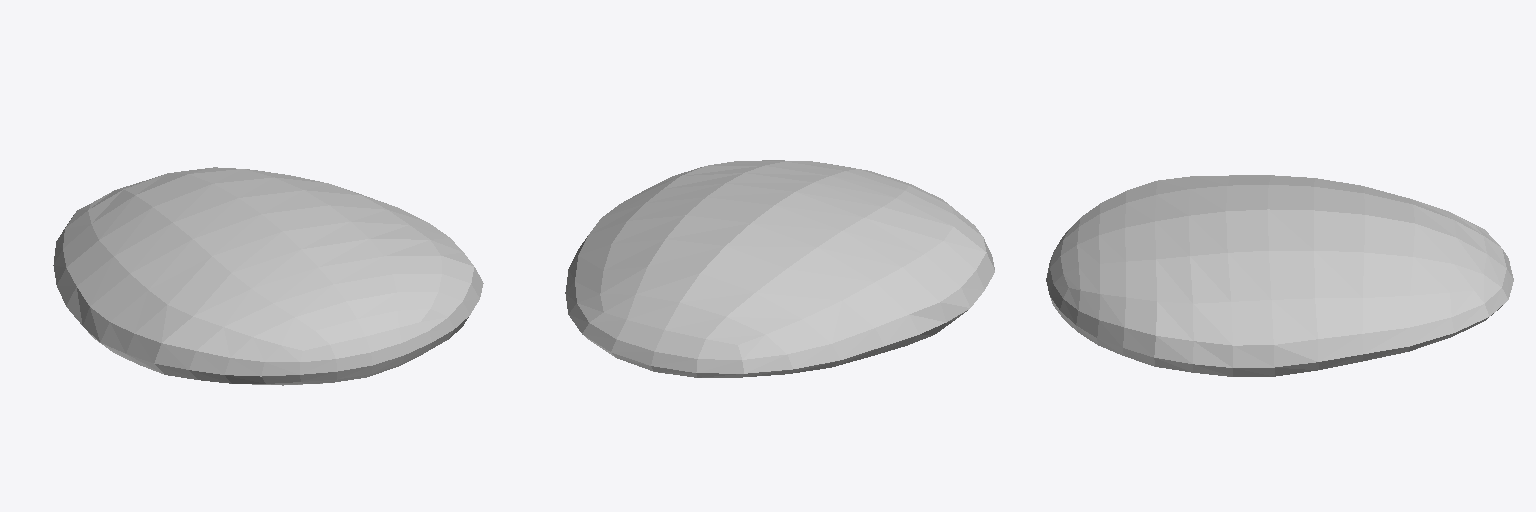
The model's file is clam_common_tongue.obj.
3 views of the same model, side by side, from view 1: azimuth 30°, elevation 25°; view 2: azimuth 150°, elevation 25°; view 3: azimuth 270°, elevation 25° (orthographic).
Visible parts, largest first — view 1: tongue; view 2: tongue; view 3: tongue.
Boxes of the visible parts, x1=… form: tongue: x1=53, y1=167, x2=483, y2=385; tongue: x1=565, y1=160, x2=994, y2=377; tongue: x1=1046, y1=175, x2=1513, y2=376.
Size of the model in its own units: 7.42 by 1.83 by 8.39.